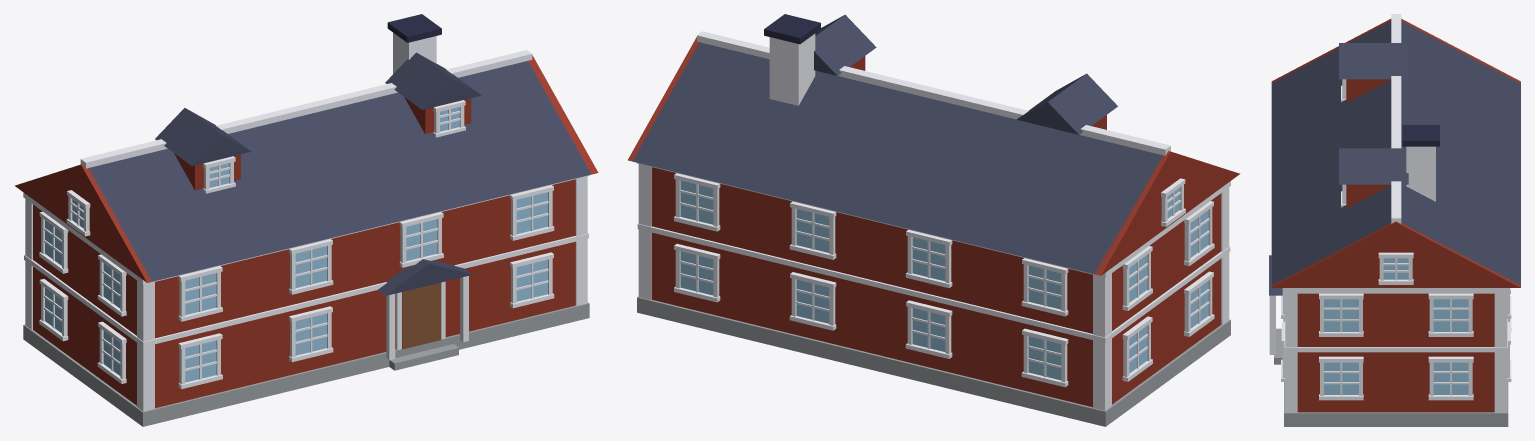
Rendered from house-2x1-2f-third-stuga-a.glb.
The picture shows the model from 3 angles, left to right: view 1: azimuth 30°, elevation 25°; view 2: azimuth 150°, elevation 25°; view 3: azimuth 270°, elevation 25°; orthographic projection. The views are drawn at different scales.
Parts seen in each view (by area): view 1: house-2x1-2f-third-stuga-a; view 2: house-2x1-2f-third-stuga-a; view 3: house-2x1-2f-third-stuga-a.
Boxes of the visible parts, x1,y1,x2,y2 form: house-2x1-2f-third-stuga-a: (15, 14, 598, 426); house-2x1-2f-third-stuga-a: (628, 14, 1240, 426); house-2x1-2f-third-stuga-a: (1269, 14, 1520, 426).
Bounding box in the file's own units: 2 × 1.1 × 1.01.
1 material, 1 textured.
